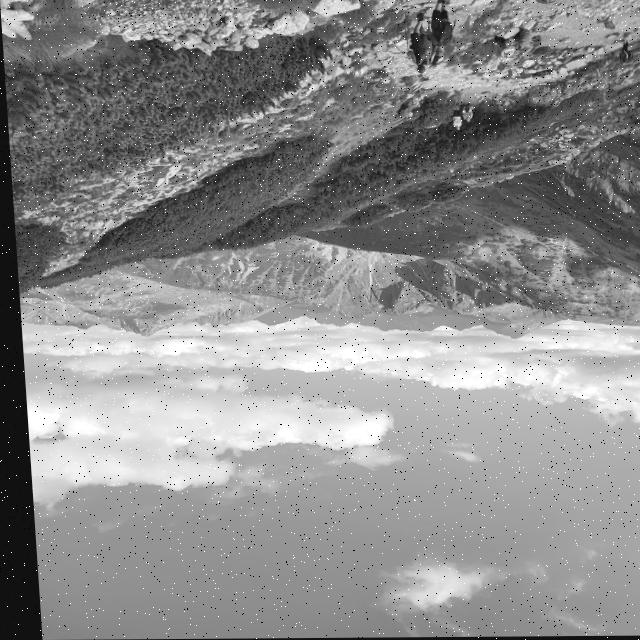Kasprowy Wierch: (78, 290, 163, 344)
Kozi Wierch: (35, 298, 127, 359)
Krivan: (469, 311, 564, 368)
Swinica: (70, 294, 217, 377)
Velka kopa: (454, 301, 562, 346)
